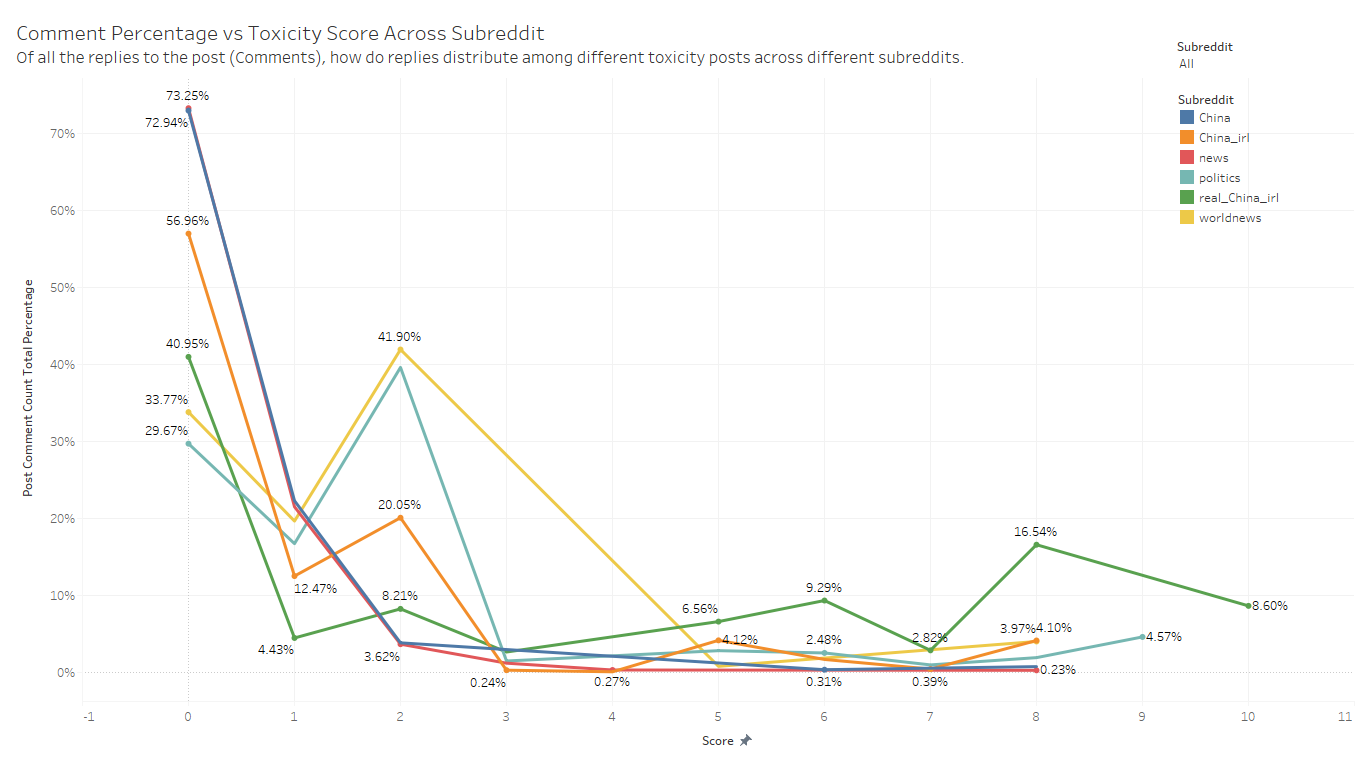

This screenshot's page, from the dashboard's own definition file:
{"tool":"tableau","page":{"name":"Comment Percentage","canvas":[1366,768],"ordinal":0},"visuals":[{"type":"worksheet","title":"Comment Percentage vs Toxicity Score Across Subreddit","mark":"Automatic","cols":["score"],"box":[8,8,1350,752]},{"type":"filter","title":"Comment Percentage vs Toxicity Score Across Subreddit","param":"[federated.0mft8ec1ac1t5p18vhkcq055l7tk].[none:subreddit:nk]","box":[1173,33,160,52]},{"type":"legend","title":"Comment Percentage vs Toxicity Score Across Subreddit","param":"[federated.0mft8ec1ac1t5p18vhkcq055l7tk].[none:subreddit:nk]","box":[1173,85,160,146]}]}

Visuals, with their boxes in screenshot pixels (x1, y1, x2, y2), scaled from the page's 1366x768 canvas onto the 1366x768 screenshot:
"Comment Percentage vs Toxicity Score Across Subreddit" worksheet: {"x1": 8, "y1": 8, "x2": 1358, "y2": 760}
"Comment Percentage vs Toxicity Score Across Subreddit" filter: {"x1": 1173, "y1": 33, "x2": 1333, "y2": 85}
"Comment Percentage vs Toxicity Score Across Subreddit" legend: {"x1": 1173, "y1": 85, "x2": 1333, "y2": 231}
